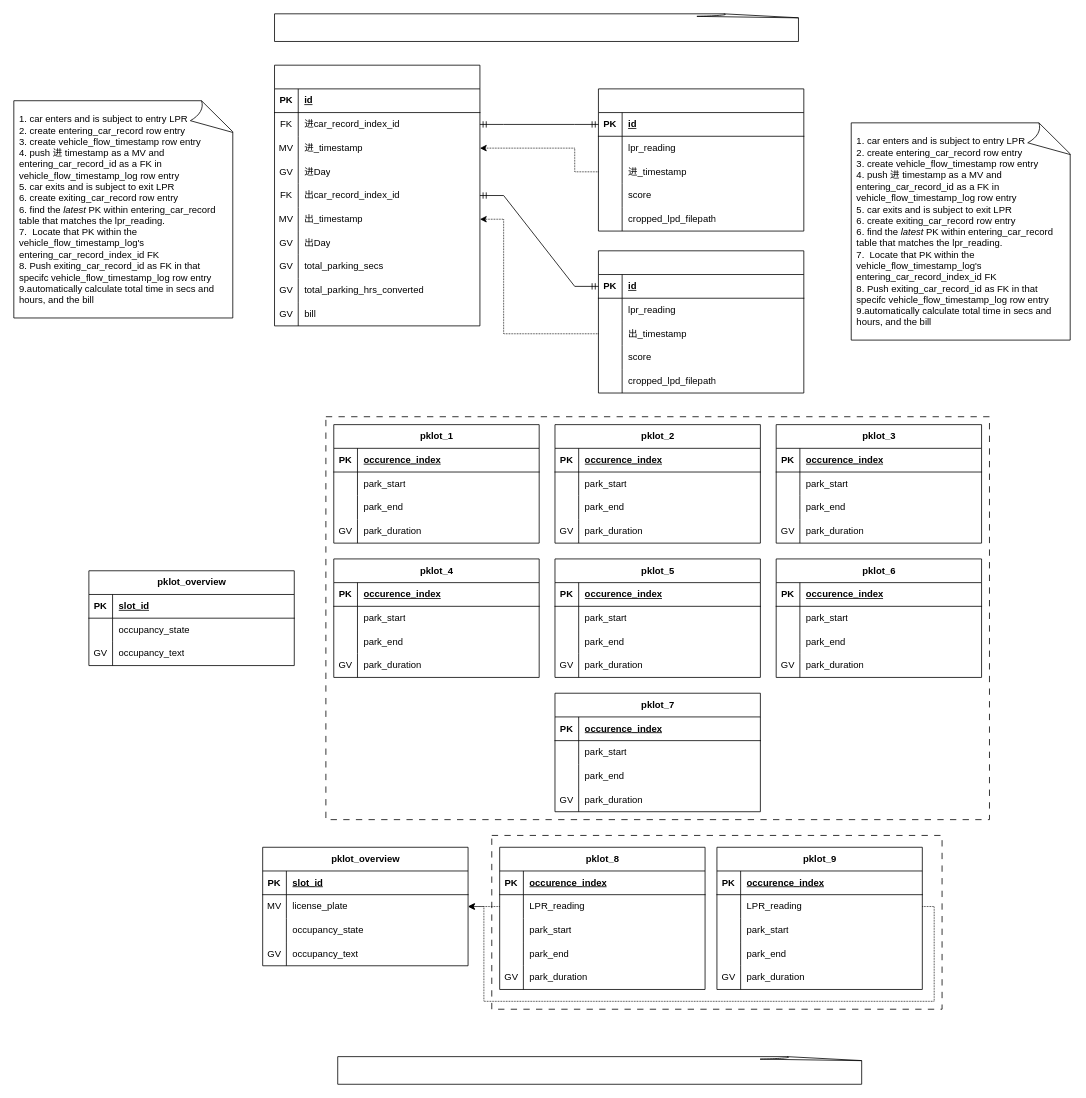
Image size: 1086x1098. Some labels were removed from this diagram. Here are the shapes that lost their labels. From the top down, the box of each, then its label:
(598, 88, 804, 231): entering_car_record
(274, 64, 480, 326): vehicle_flow_timestamp_log
(598, 250, 804, 393): exiting_car_record
